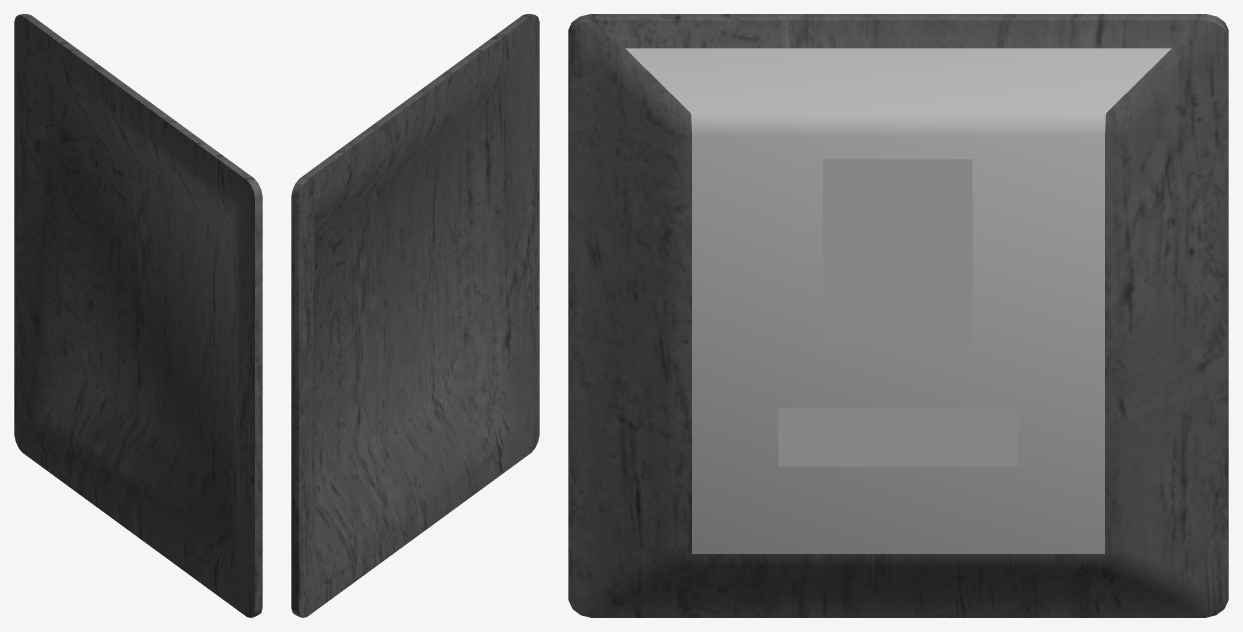
The model's file is p6_fuse_box_lid_a_lod0.glb.
The picture shows the model from 3 angles, left to right: view 1: azimuth 30°, elevation 25°; view 2: azimuth 150°, elevation 25°; view 3: azimuth 270°, elevation 25°; orthographic projection. The views are drawn at different scales.
Parts seen in each view (by area): view 1: surf0; view 2: surf0; view 3: surf0, surf2, surf1.
Part boxes in pixels (bbox=[...]): surf0: bbox=[14, 14, 262, 617]; surf0: bbox=[291, 14, 539, 617]; surf0: bbox=[568, 14, 1228, 617]; surf2: bbox=[625, 48, 1171, 553]; surf1: bbox=[778, 159, 1017, 466].
Bounding box in the file's own units: 2.83 × 24.59 × 24.56.
